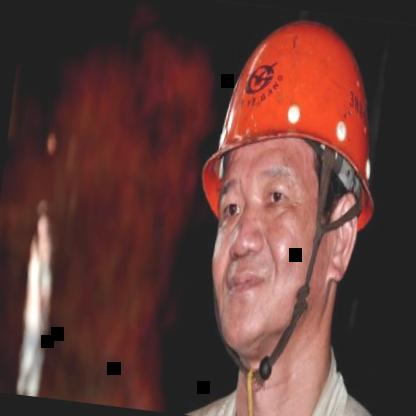helmet: (166, 0, 395, 402)
